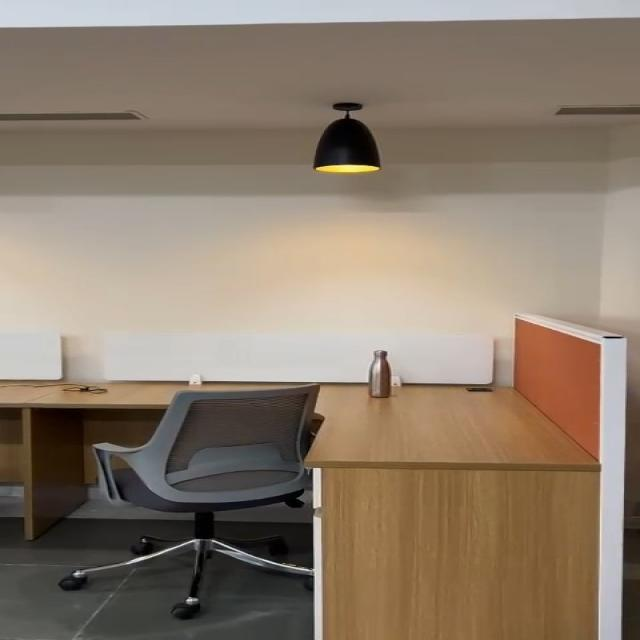floor: (0, 551, 65, 640)
furniture: (57, 373, 332, 617)
wall: (0, 145, 640, 298)
